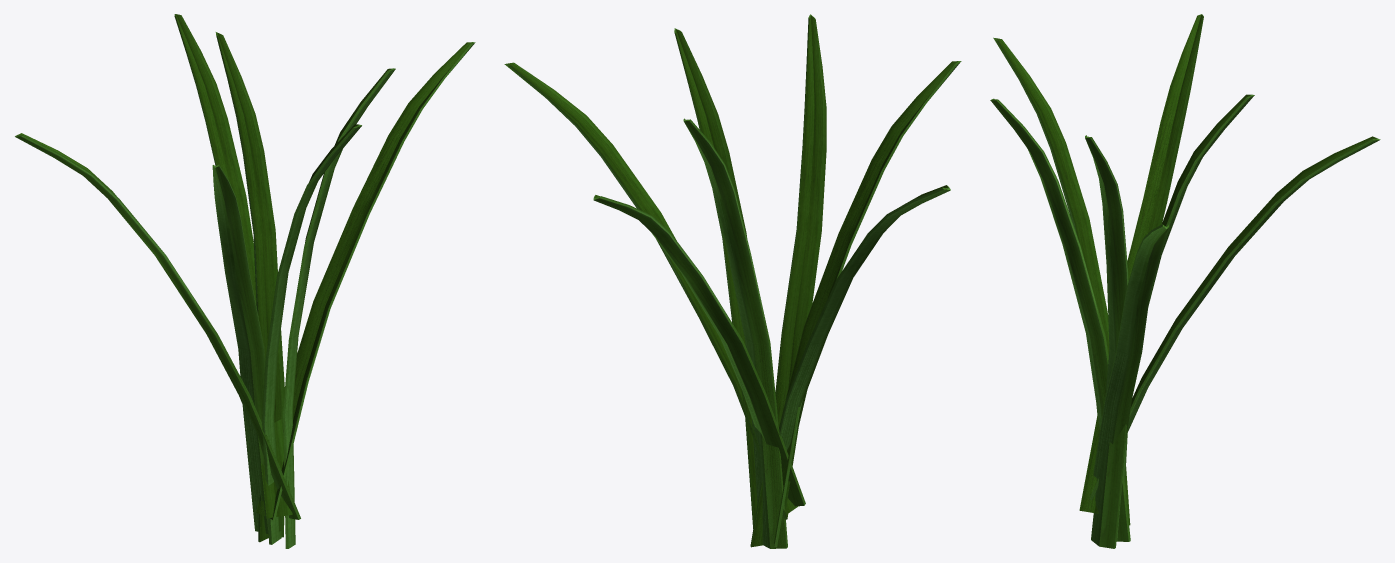
The model's file is herbe.fbx.
The picture shows the model from 3 angles, left to right: view 1: azimuth 30°, elevation 25°; view 2: azimuth 150°, elevation 25°; view 3: azimuth 270°, elevation 25°; orthographic projection. The views are drawn at different scales.
Visible parts, largest first — view 1: herb41, herb40, herb36, herb37, herb35, herb38, herb39; view 2: herb38, herb36, herb37, herb40, herb41, herb35, herb39; view 3: herb39, herb35, herb38, herb41, herb40, herb37, herb36.
Part boxes in pixels (x1,y1,x2,y2): herb41: (256, 42, 475, 520); herb40: (212, 164, 283, 533); herb36: (215, 32, 284, 542); herb37: (174, 14, 292, 518); herb35: (15, 133, 300, 519); herb38: (262, 124, 361, 544); herb39: (283, 68, 395, 548); herb38: (750, 14, 826, 547); herb36: (683, 118, 787, 548); herb37: (593, 195, 805, 506); herb40: (774, 61, 961, 546); herb41: (504, 62, 797, 519); herb35: (779, 185, 950, 450); herb39: (674, 28, 757, 528); herb39: (1085, 135, 1128, 548); herb35: (1079, 14, 1203, 513); herb38: (990, 98, 1130, 541); herb41: (1093, 224, 1169, 478); herb40: (993, 37, 1130, 525); herb37: (1089, 136, 1380, 500); herb36: (1116, 94, 1254, 541).
Bounding box in the file's own units: 202 × 200 × 155.
